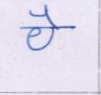au_matra: (35, 6, 61, 33)
